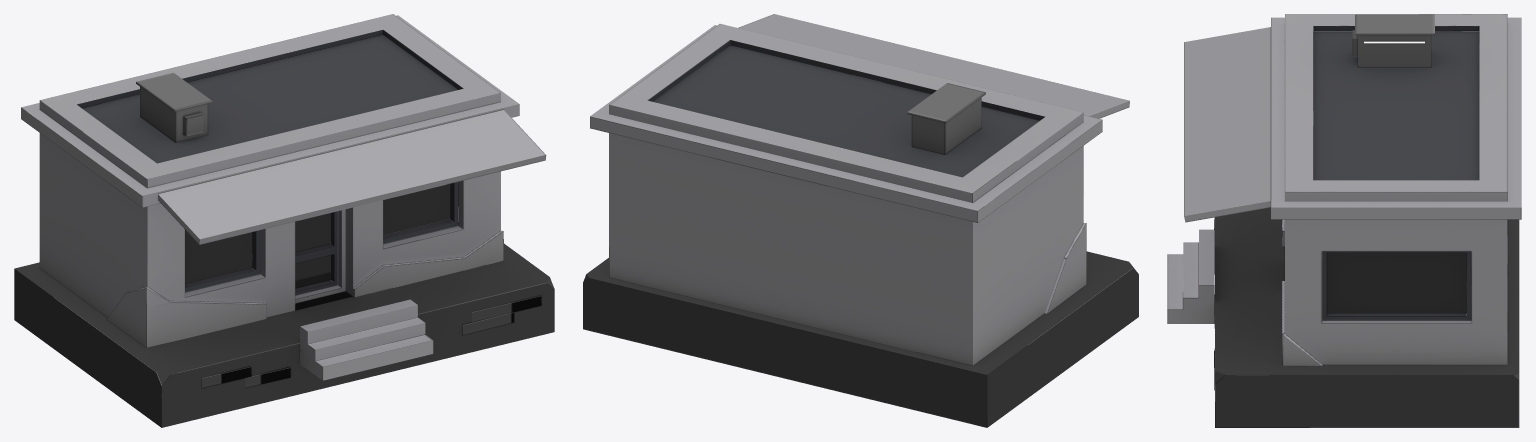
Rendered from building.glb.
3 views of the same model, side by side, from view 1: azimuth 30°, elevation 25°; view 2: azimuth 150°, elevation 25°; view 3: azimuth 270°, elevation 25° (orthographic). The views are drawn at different scales.
Parts seen in each view (by area): view 1: Cube.003; view 2: Cube.003; view 3: Cube.003.
Part boxes in pixels (x1,y1,x2,y2): Cube.003: (14, 14, 554, 427); Cube.003: (583, 14, 1138, 427); Cube.003: (1167, 14, 1521, 427).
Size of the model in its own units: 1.36 by 0.8208 by 1.03.
Materials: 7 (6 with a texture image).
